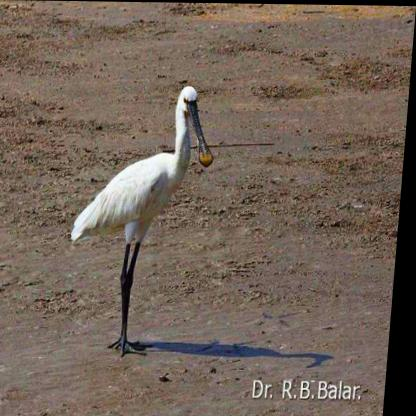Burung: (66, 85, 220, 357)
